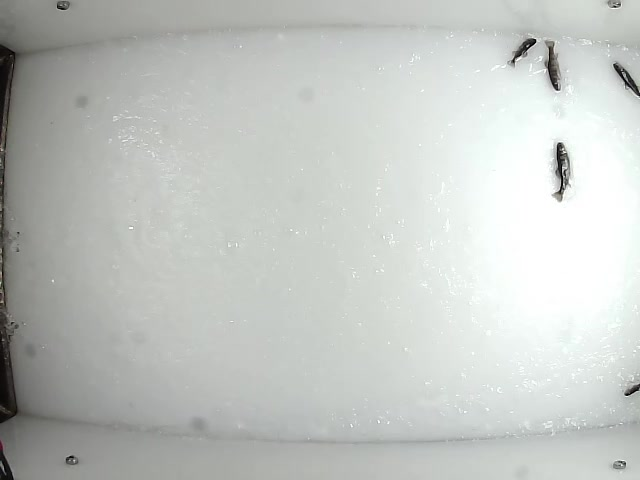fish: (549, 141, 572, 203), (504, 36, 539, 69), (542, 38, 562, 92)
